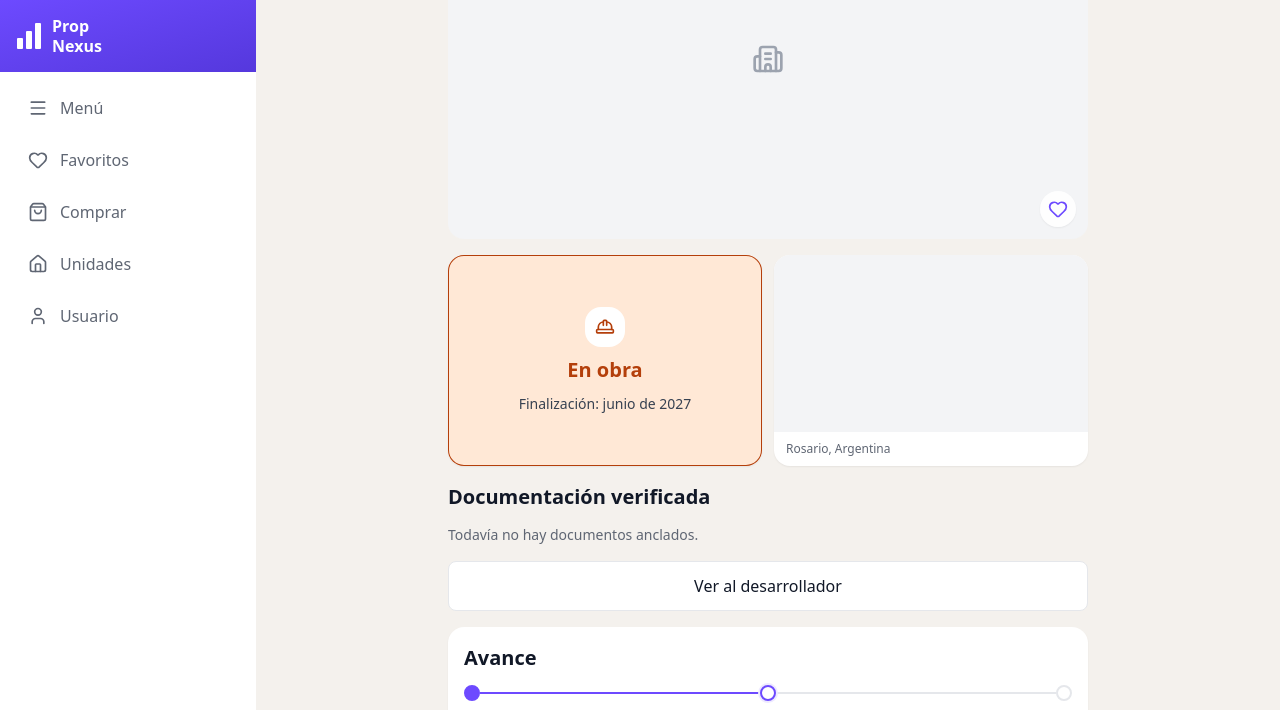
Scenario: /project/:projectId (investor) › el botón del mapa abre el modal de ubicación y se cierra con Escape
(page scrolled)
Click the button with aria-label "Ubicación" at (931, 360), box [774, 255, 1088, 466]
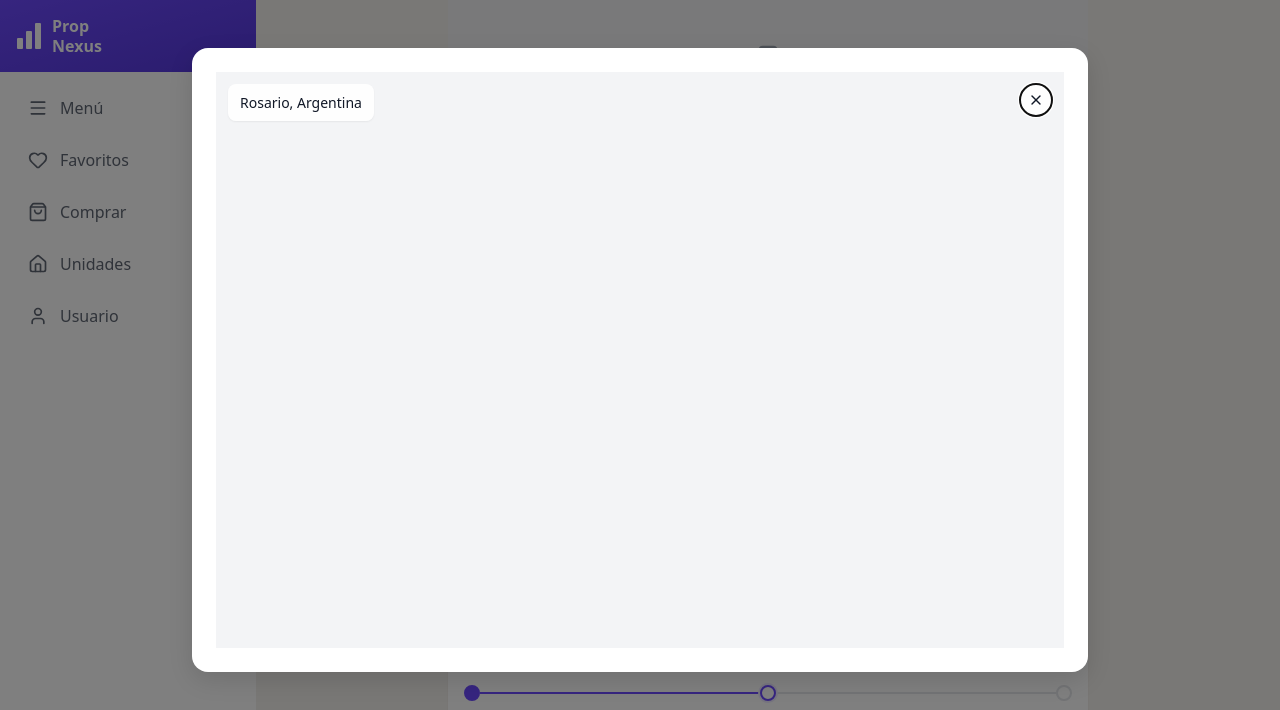
Check: the dialog named "Ubicación" is shown
Press Escape in the button named "Cerrar mapa", box [1020, 84, 1052, 116]
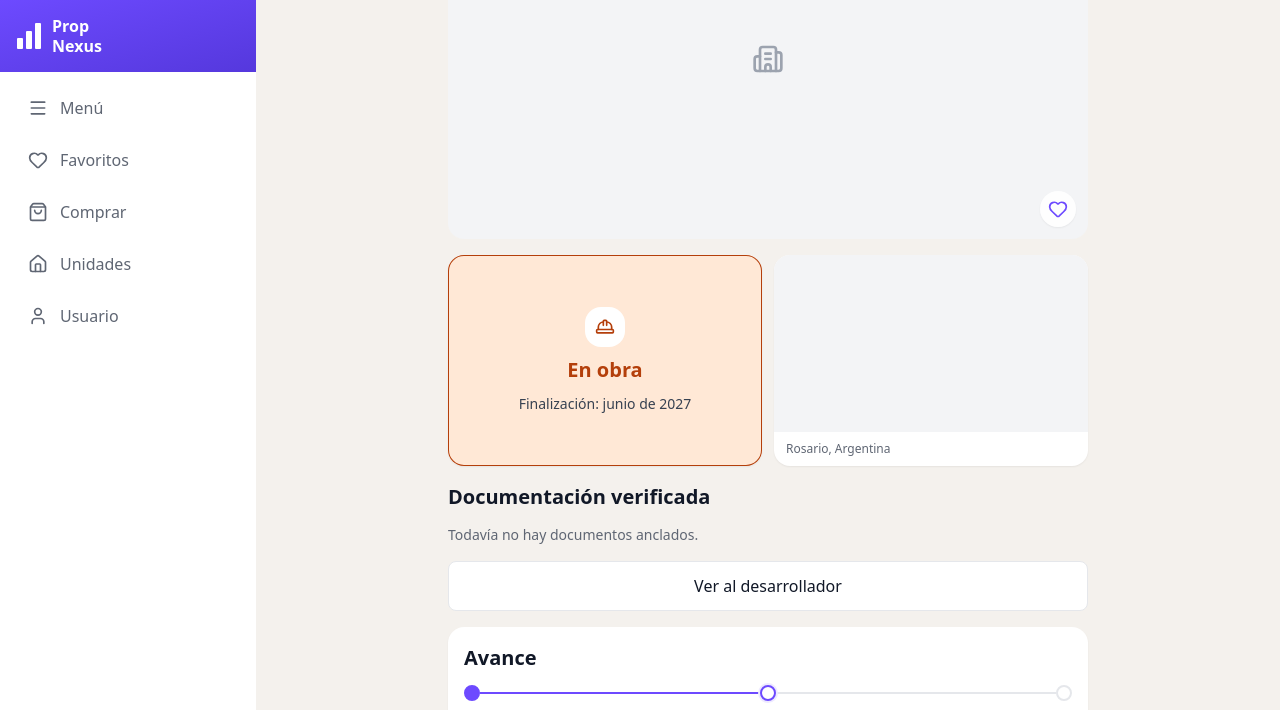
Check: the dialog is gone
